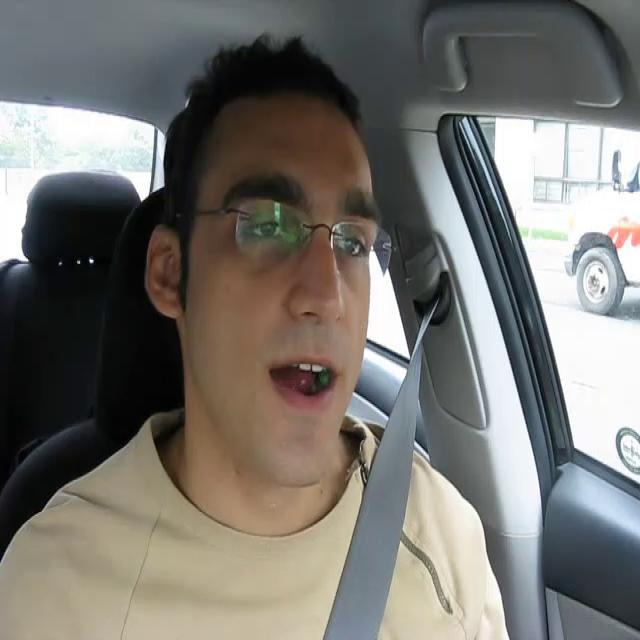open: (260, 348, 343, 414)
